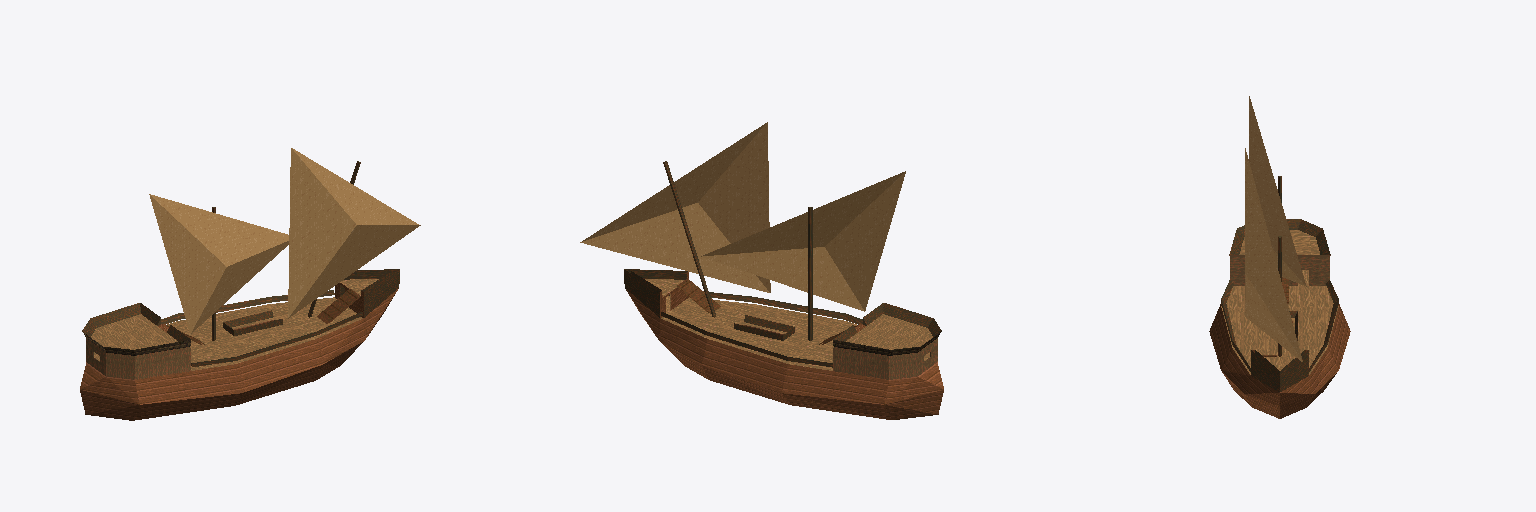
3 renders of one model, left to right at view 1: azimuth 30°, elevation 25°; view 2: azimuth 150°, elevation 25°; view 3: azimuth 270°, elevation 25°, orthographic.
Visible parts, largest first — view 1: RIP14, RIP3, RIP2, RIP1, RIP4, RIP8, RIP10, RIP5; view 2: RIP14, RIP3, RIP2, RIP1, RIP8, RIP4, RIP5, RIP10; view 3: RIP14, RIP2, RIP3, RIP1, RIP4, RIP8.
Boxes of the visible parts, <box> form: RIP14: <box>149,148,420,334</box>; RIP3: <box>80,283,397,420</box>; RIP2: <box>91,279,378,370</box>; RIP1: <box>82,269,399,341</box>; RIP4: <box>86,338,190,379</box>; RIP8: <box>161,161,362,366</box>; RIP10: <box>166,289,360,344</box>; RIP5: <box>82,331,190,355</box>; RIP14: <box>580,122,905,311</box>; RIP3: <box>626,272,943,419</box>; RIP2: <box>645,279,932,370</box>; RIP1: <box>624,269,941,341</box>; RIP8: <box>661,161,862,367</box>; RIP4: <box>833,338,937,379</box>; RIP5: <box>833,331,941,355</box>; RIP10: <box>677,279,857,344</box>; RIP14: <box>1245,96,1306,361</box>; RIP2: <box>1221,230,1338,374</box>; RIP3: <box>1209,304,1350,418</box>; RIP1: <box>1229,219,1330,391</box>; RIP4: <box>1229,255,1330,285</box>; RIP8: <box>1221,176,1338,371</box>.
Size of the model in its own units: 3.6 by 2.29 by 1.25.
Materials: 14 (13 with a texture image).